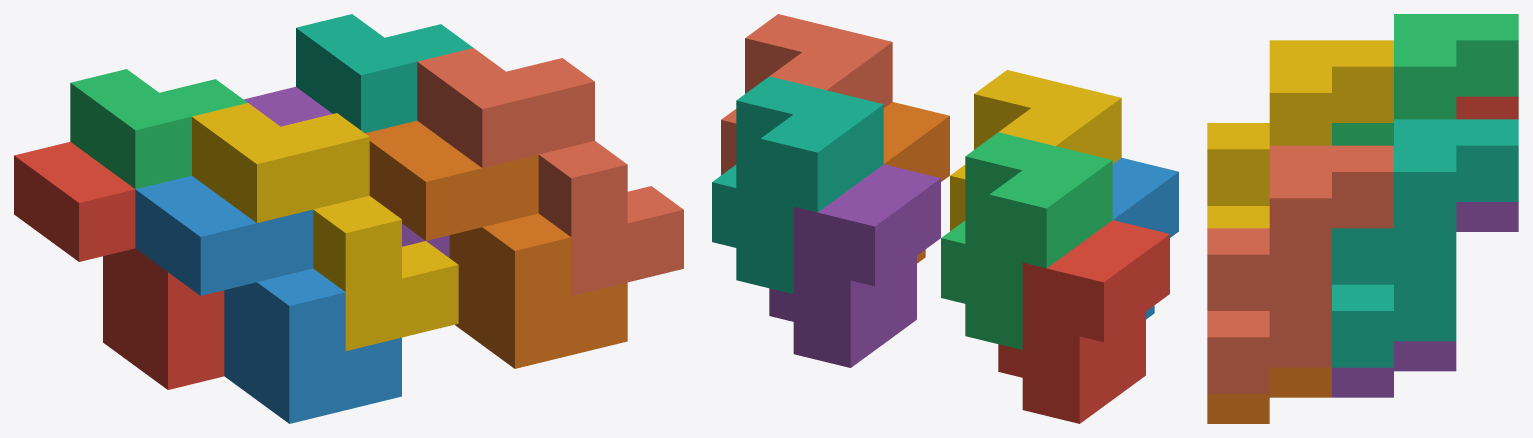
File: tiling.obj
3 views of the same model, side by side, from view 1: azimuth 30°, elevation 25°; view 2: azimuth 150°, elevation 25°; view 3: azimuth 270°, elevation 25° (orthographic). The views are drawn at different scales.
Parts seen in each view (by area): view 1: copy_1_domain_2, copy_1_domain_6, copy_1_domain_4, copy_1_domain_8, copy_1_domain_1, copy_1_domain_3, copy_1_domain_7, copy_1_domain_5; view 2: copy_1_domain_5, copy_1_domain_1, copy_1_domain_3, copy_1_domain_7, copy_1_domain_4, copy_1_domain_8, copy_1_domain_2, copy_1_domain_6; view 3: copy_1_domain_8, copy_1_domain_7, copy_1_domain_4, copy_1_domain_3, copy_1_domain_5, copy_1_domain_6, copy_1_domain_1.
Part boxes in pixels (<box>): copy_1_domain_2: <box>135,175,401,423</box>; copy_1_domain_6: <box>365,120,627,368</box>; copy_1_domain_4: <box>192,103,458,350</box>; copy_1_domain_8: <box>417,48,683,295</box>; copy_1_domain_1: <box>14,141,224,389</box>; copy_1_domain_3: <box>70,69,247,189</box>; copy_1_domain_7: <box>296,14,473,133</box>; copy_1_domain_5: <box>244,86,449,257</box>; copy_1_domain_5: <box>769,164,940,367</box>; copy_1_domain_1: <box>998,220,1169,423</box>; copy_1_domain_3: <box>941,132,1112,349</box>; copy_1_domain_7: <box>712,76,883,293</box>; copy_1_domain_4: <box>950,70,1121,231</box>; copy_1_domain_8: <box>721,14,892,175</box>; copy_1_domain_2: <box>1112,158,1178,319</box>; copy_1_domain_6: <box>883,102,949,263</box>; copy_1_domain_8: <box>1207,145,1393,393</box>; copy_1_domain_7: <box>1332,119,1518,367</box>; copy_1_domain_4: <box>1207,40,1393,228</box>; copy_1_domain_3: <box>1332,14,1518,145</box>; copy_1_domain_5: <box>1332,202,1518,397</box>; copy_1_domain_6: <box>1207,367,1331,423</box>; copy_1_domain_1: <box>1456,96,1518,119</box>.
Size of the model in its own units: 9 by 4 by 5.
